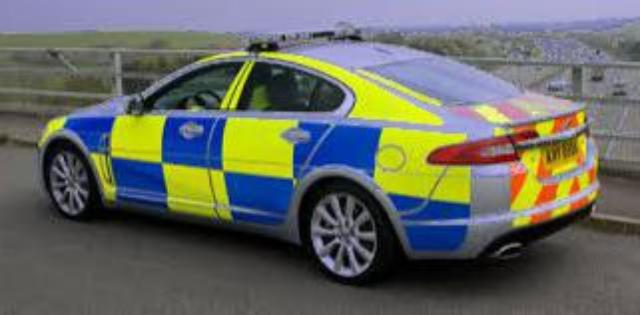police: (38, 26, 600, 289)
